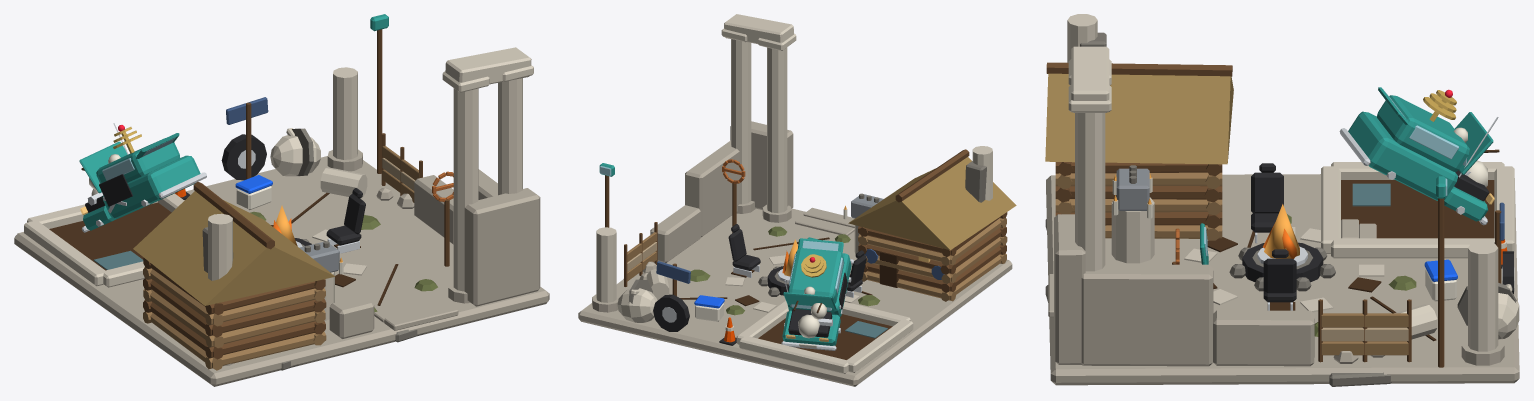
Rendered from hearth_l2.fbx.
3 views of the same model, side by side, from view 1: azimuth 30°, elevation 25°; view 2: azimuth 150°, elevation 25°; view 3: azimuth 270°, elevation 25° (orthographic). The views are drawn at different scales.
Visible parts, largest first — view 1: Ruin, TimeMachine, BonnetUp; view 2: Ruin, TimeMachine, Steam, BonnetUp, BootOpen; view 3: Ruin, TimeMachine, Fire, BonnetUp, Steam.
Boxes of the visible parts, x1,y1,x2,y2 form: Ruin: (14, 14, 549, 386); TimeMachine: (80, 123, 206, 232); BonnetUp: (79, 141, 127, 193); Ruin: (578, 14, 1016, 386); TimeMachine: (781, 248, 853, 350); Steam: (798, 286, 826, 338); BonnetUp: (783, 292, 836, 309); BootOpen: (797, 238, 843, 254); Ruin: (1045, 14, 1519, 386); TimeMachine: (1339, 89, 1499, 225); Fire: (1263, 204, 1299, 258); BonnetUp: (1454, 112, 1493, 174); Steam: (1453, 127, 1487, 187).
Bounding box in the file's own units: 3.79 × 3.74 × 2.56.
